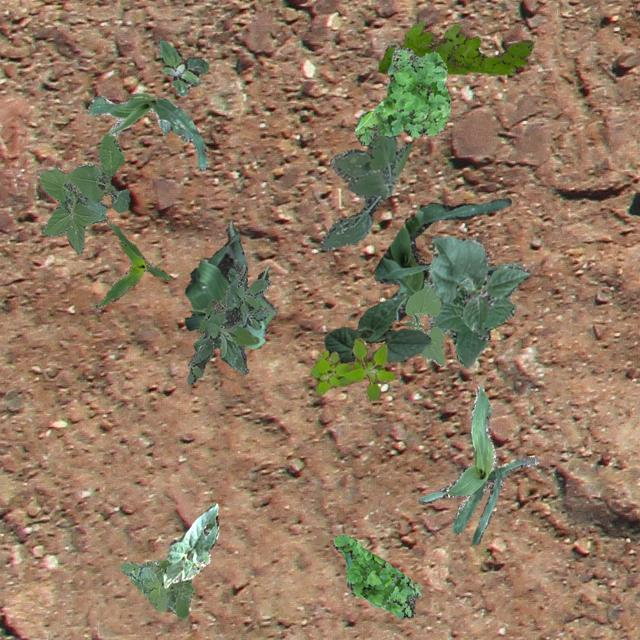crop: (418, 384, 538, 544), (372, 198, 510, 320), (184, 218, 276, 348), (427, 236, 528, 340), (423, 262, 521, 368), (86, 92, 206, 170), (324, 292, 429, 362), (94, 220, 172, 308), (160, 502, 218, 586), (402, 282, 443, 366)
weed: (319, 110, 412, 250), (38, 132, 128, 254), (186, 264, 270, 384), (354, 46, 451, 144), (378, 21, 532, 74), (332, 534, 419, 618), (310, 336, 394, 401), (118, 558, 194, 618), (156, 38, 208, 96)
